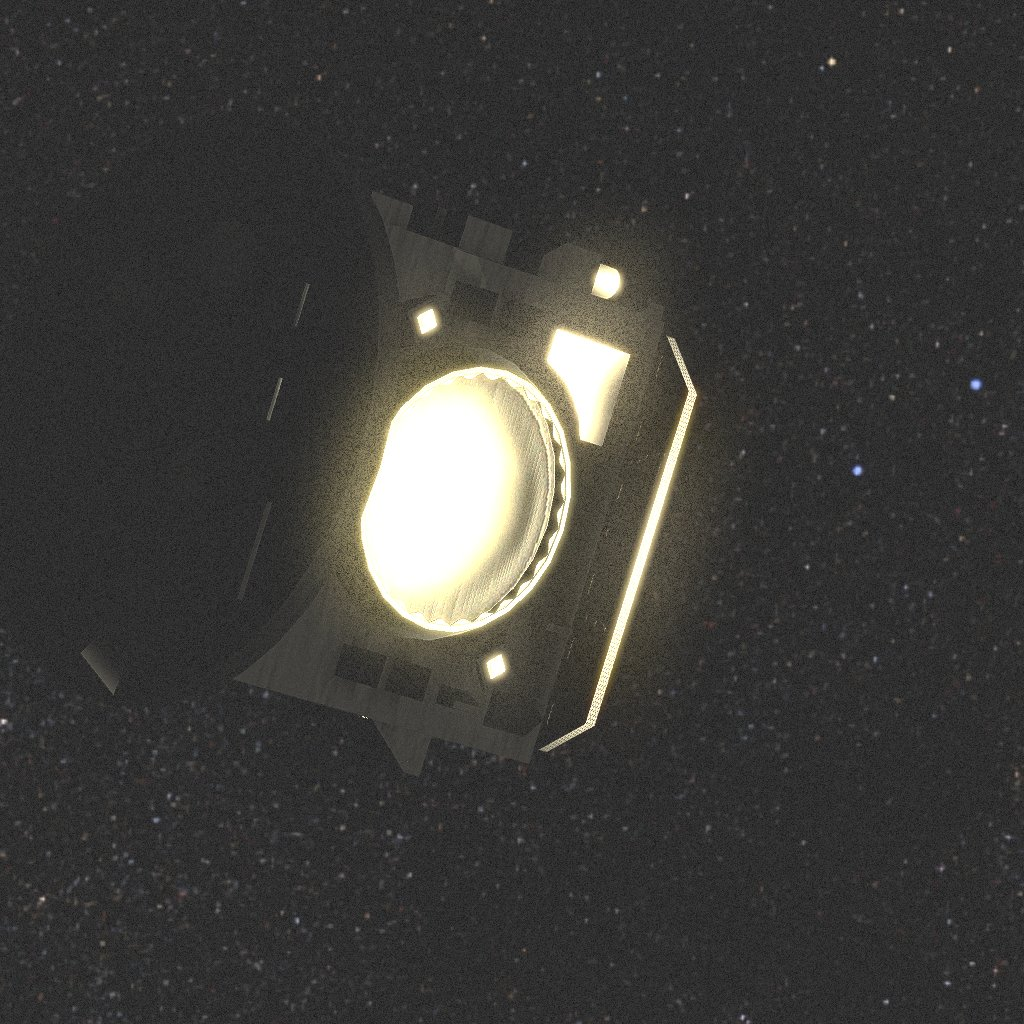proba_3_ocs: (23, 184, 697, 769)
